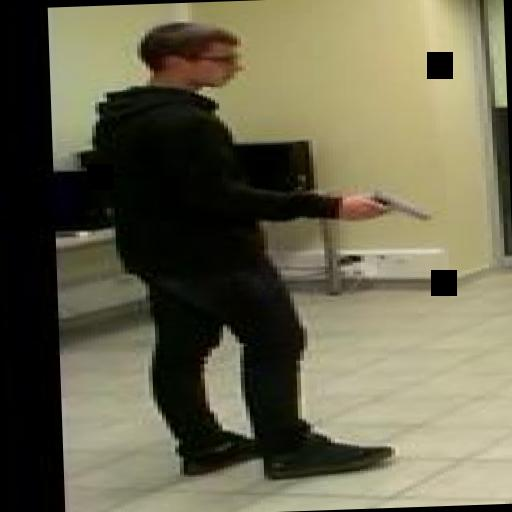Handgun: (346, 182, 430, 221)
